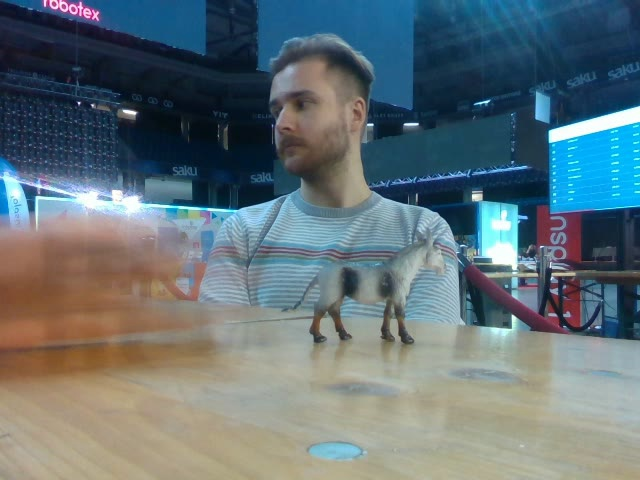toy: (282, 229, 446, 346)
